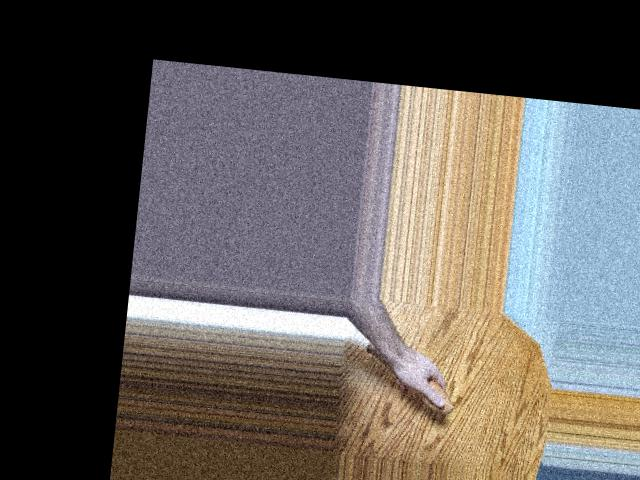sweet_potato: (357, 338, 460, 413)
